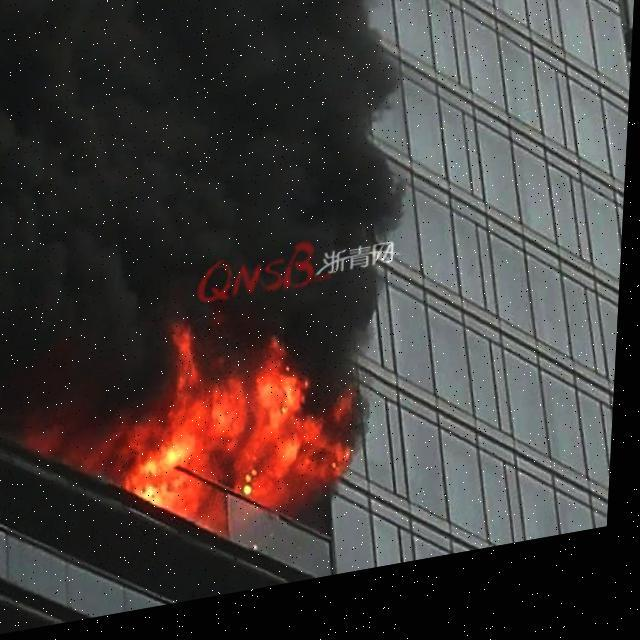Fire: (27, 290, 369, 586)
